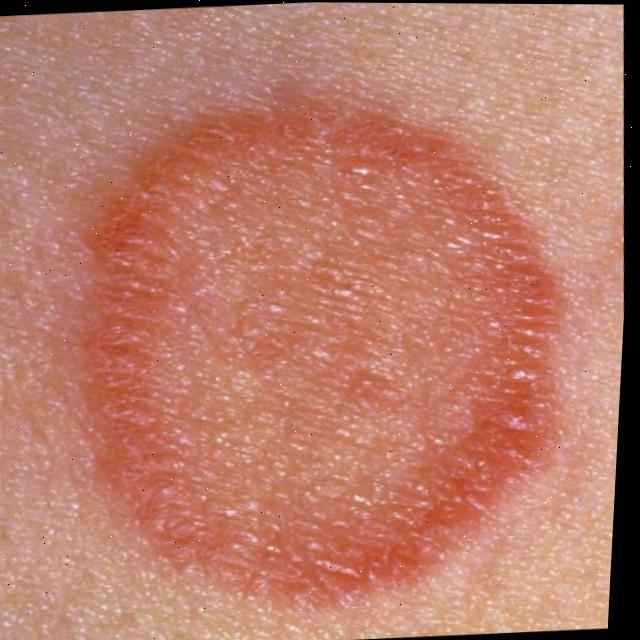Rosacea: (44, 46, 594, 615)
